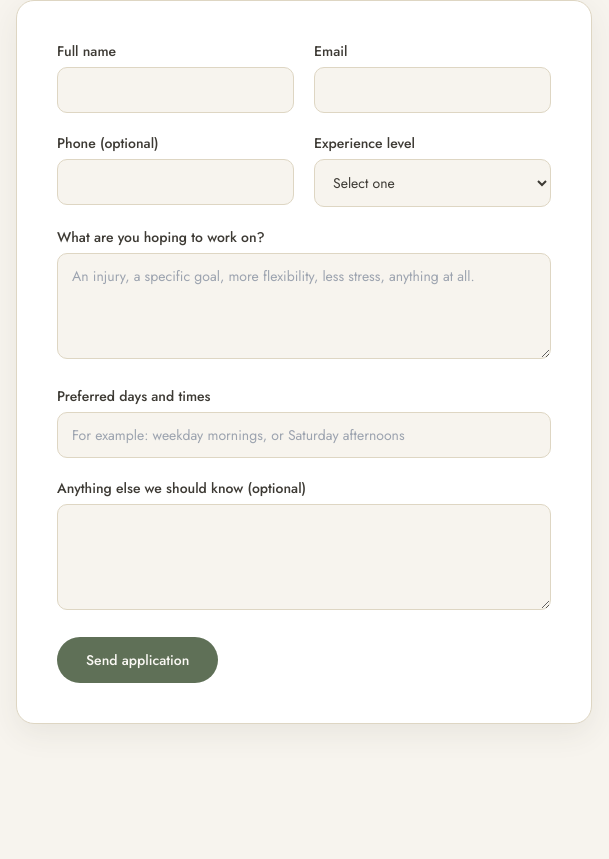
Test case: PrivateSessionForm › confirms the application once the required fields are filled in
Type "Jordan Reyes" into the field labelled "Full name" at (176,90), box [57,67,294,113]
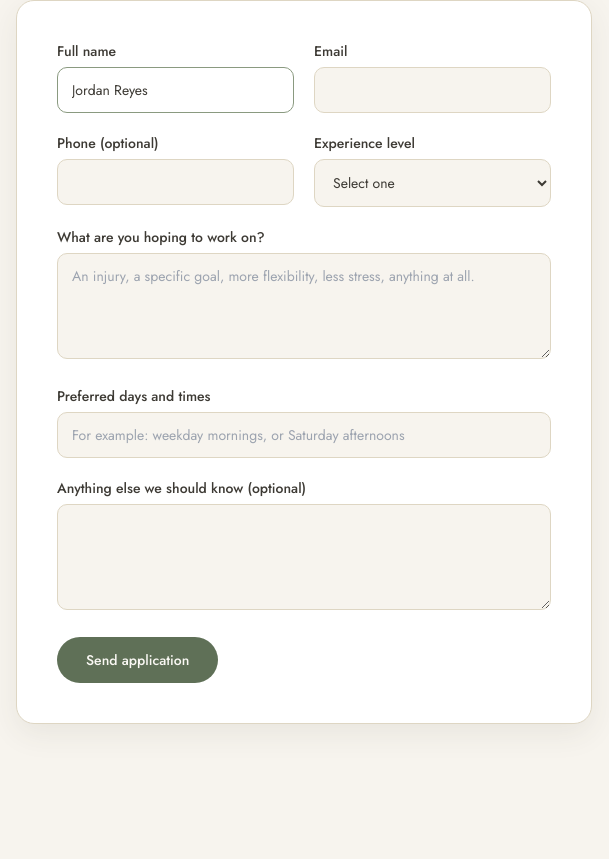
Type "jordan@example.com" into the field labelled "Email" at (432,90), box [314,67,551,113]
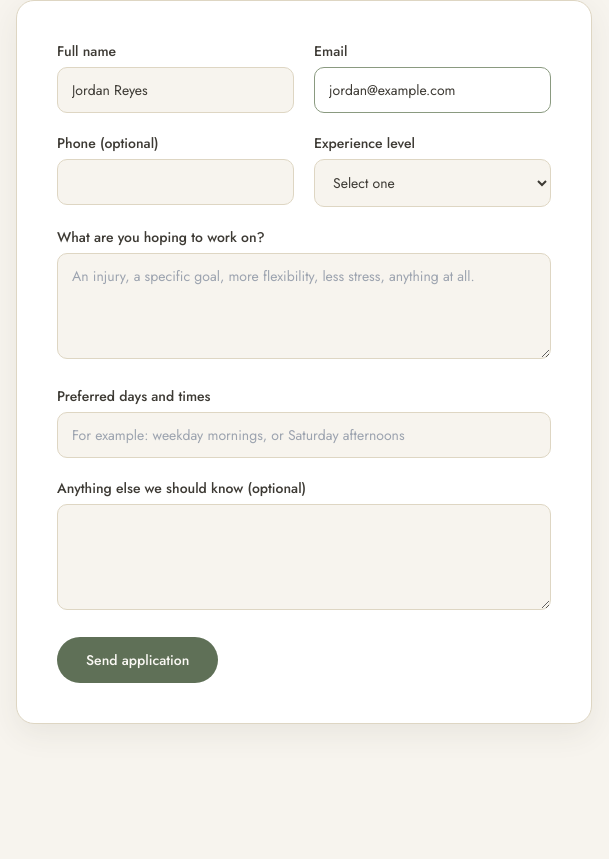
Select "New to yoga" in the dropdown labelled "Experience level" at (432,183), box [314,159,551,207]
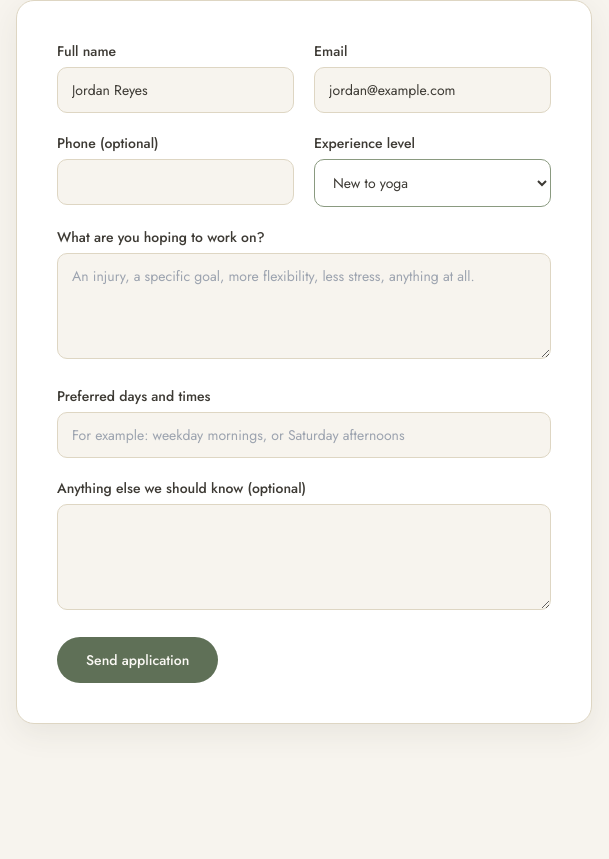
Type "Recovering from a knee injury" into the text box labelled "What are you hoping to work on?" at (304,306), box [57,253,551,359]
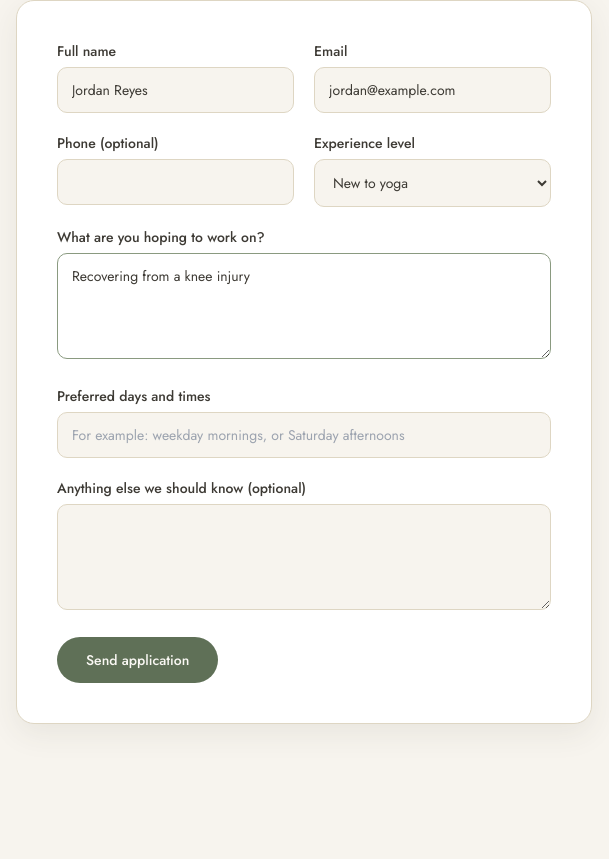
Click the button "Send application" at (138,660), box [57,637,218,683]
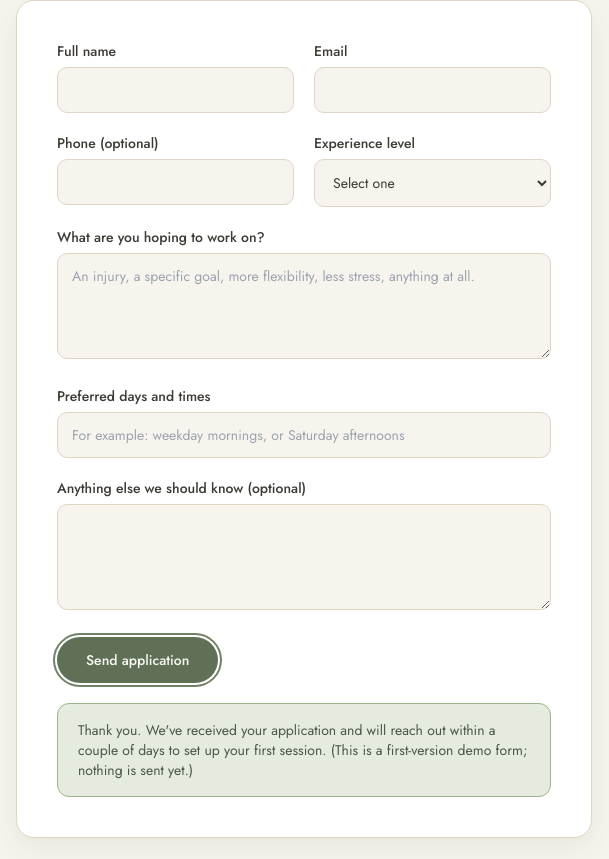
Expected: the message shows "received your application", [78,720,528,780]
